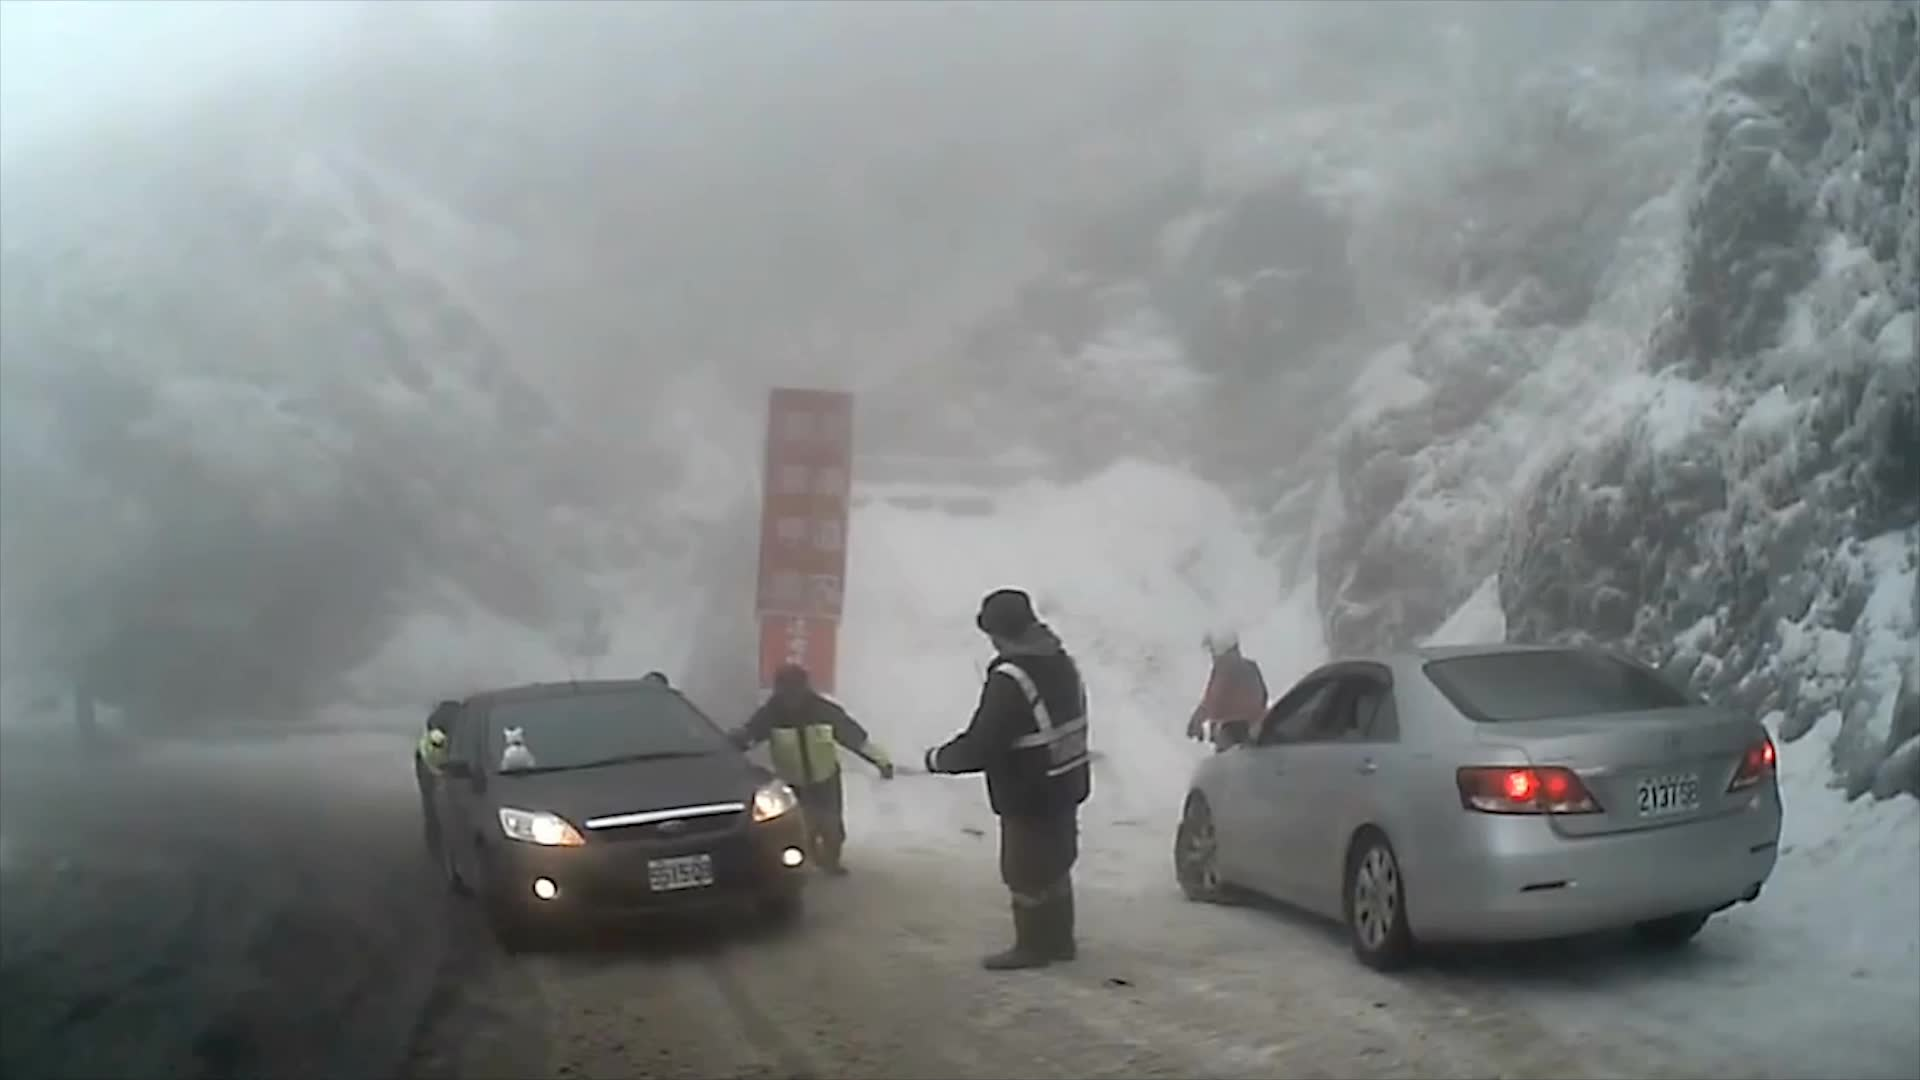pedestrian: (904, 589, 1094, 970), (731, 666, 898, 877), (1189, 629, 1271, 824)
vehicle: (1173, 644, 1783, 970), (424, 677, 818, 956)
